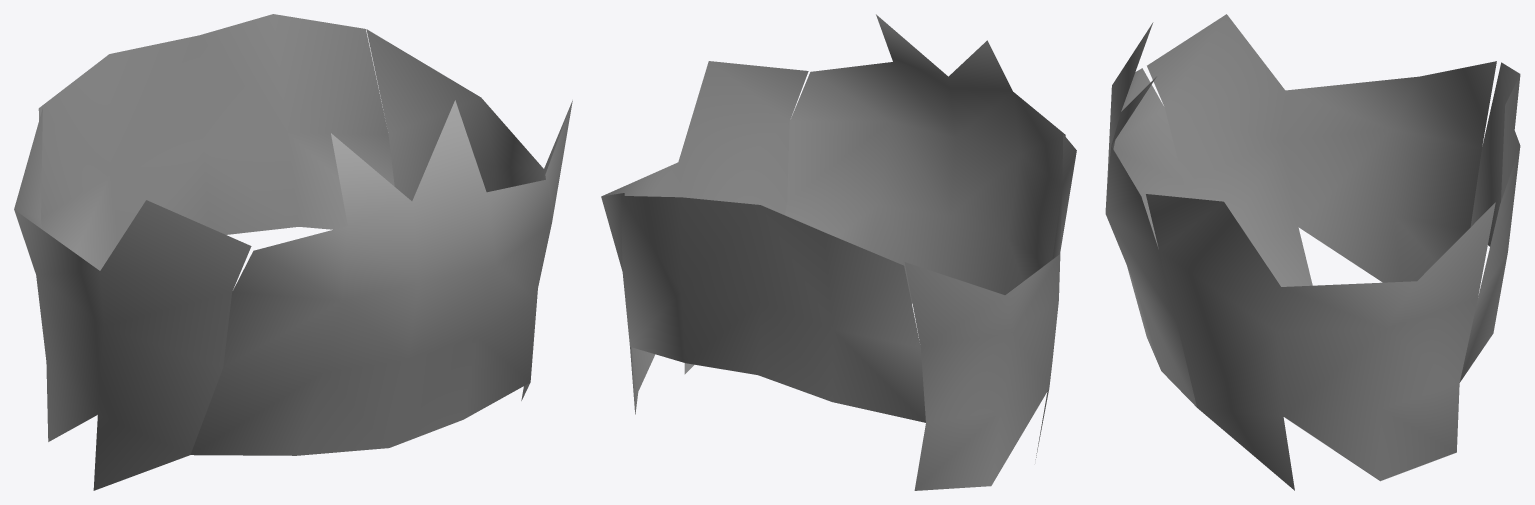
The model's file is spine1.glb.
The picture shows the model from 3 angles, left to right: view 1: azimuth 30°, elevation 25°; view 2: azimuth 150°, elevation 25°; view 3: azimuth 270°, elevation 25°; orthographic projection. The views are drawn at different scales.
Parts seen in each view (by area): view 1: sweater-grey_SPINE1; view 2: sweater-grey_SPINE1; view 3: sweater-grey_SPINE1.
Part boxes in pixels (box(x1,y1,x2,y2)): sweater-grey_SPINE1: box(14, 14, 572, 490); sweater-grey_SPINE1: box(601, 14, 1076, 490); sweater-grey_SPINE1: box(1105, 14, 1520, 490).
Bounding box in the file's own units: 0.3761 × 0.3034 × 0.3237.
1 material, 1 textured.
